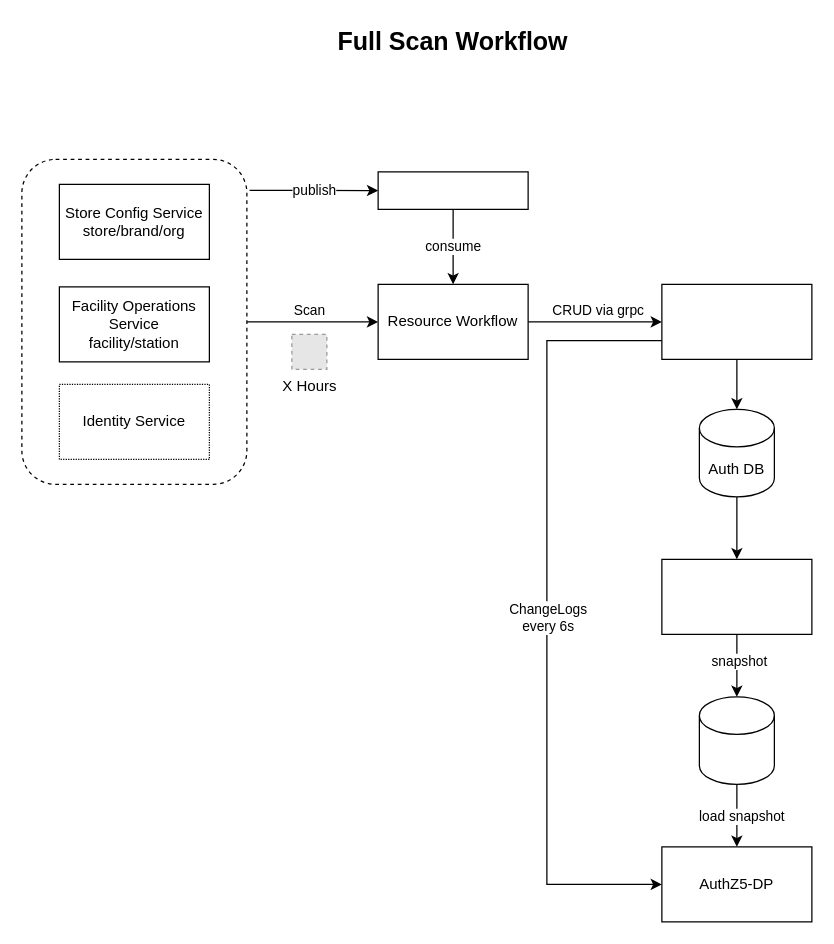
Image size: 834x944. Some labels were removed from this diagram. Grey dashed boxes stand in for pictures. Each missing label, with the centre of its shape:
"AuthZ5-CP" goes at point 736,321.
"AuthZ5-Workflow" goes at point 736,596.
"Blob Storage" goes at point 736,740.
"Event Queue" goes at point 452,190.
